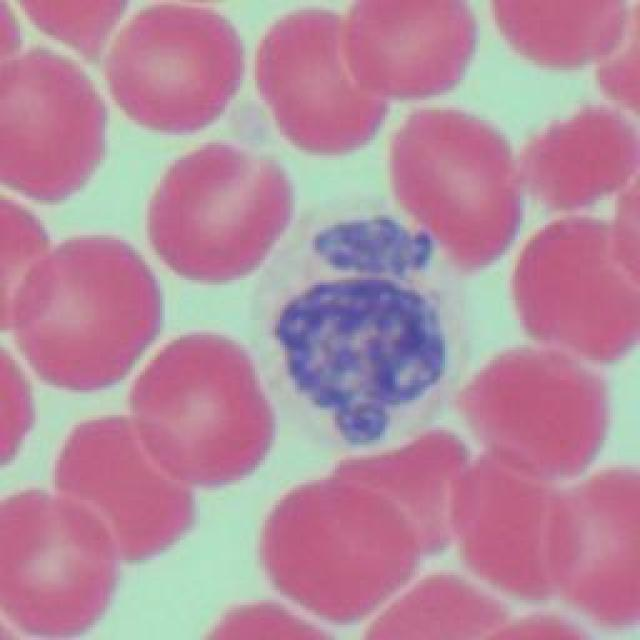RBC: (253, 480, 415, 625), (129, 329, 271, 489), (20, 234, 162, 394), (388, 101, 518, 271), (460, 346, 608, 482), (59, 416, 191, 564), (326, 432, 476, 560), (255, 11, 387, 154), (512, 220, 640, 365), (151, 154, 291, 281), (448, 464, 574, 604), (0, 487, 115, 640), (111, 5, 246, 135), (537, 466, 640, 626), (0, 53, 105, 205), (512, 105, 638, 215), (345, 0, 483, 98), (492, 0, 622, 70), (365, 580, 510, 640), (0, 196, 52, 331), (16, 1, 129, 56), (202, 600, 336, 640), (595, 3, 640, 108), (0, 348, 38, 468), (615, 178, 640, 280)
WBC: (245, 194, 467, 456)
